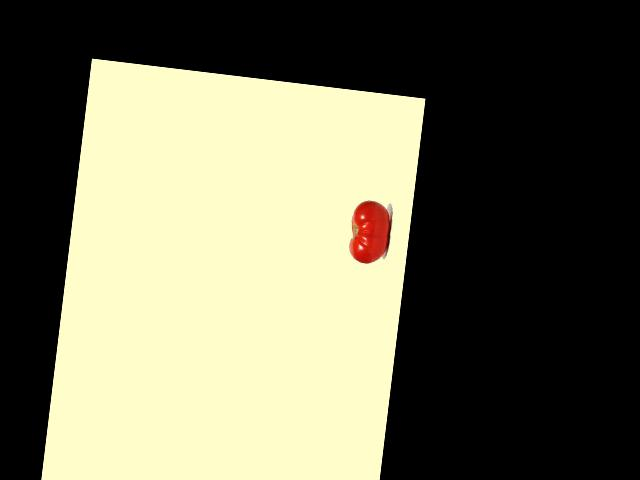tomato: (346, 199, 392, 266)
